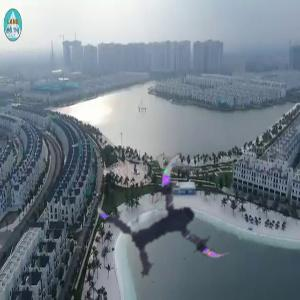drone: (109, 157, 239, 287)
